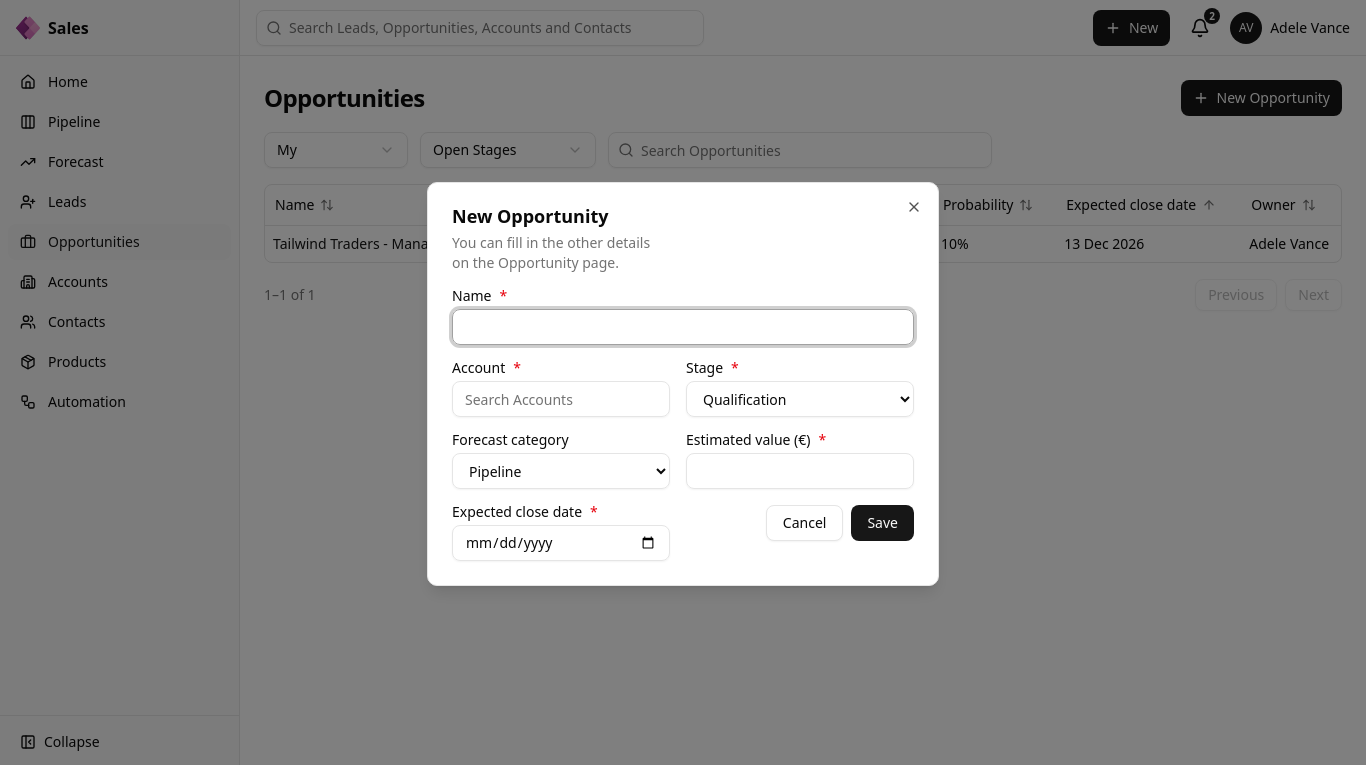
Test: Opportunities flow › lets the Owner pick a Forecast category when creating, defaulting from the Stage
The width and height of the screenshot is (1366, 765).
In the field labelled "Name *": (683, 327) [452,309,914,345], type "Northwind BV - Omitted"
In the dropdown labelled "Account *": (561, 399) [452,381,670,417], type "north"
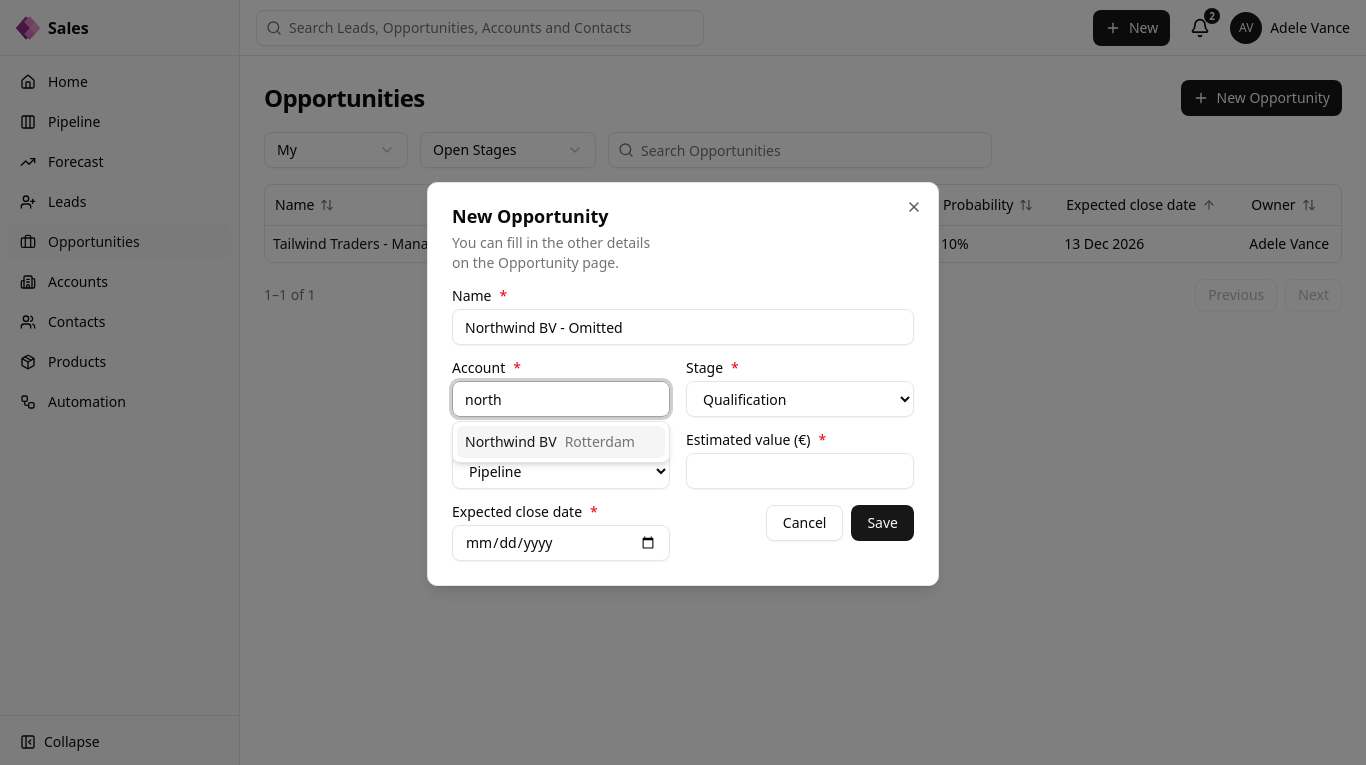
Click the option "Northwind BV": click(561, 442) [457,426,665,458]
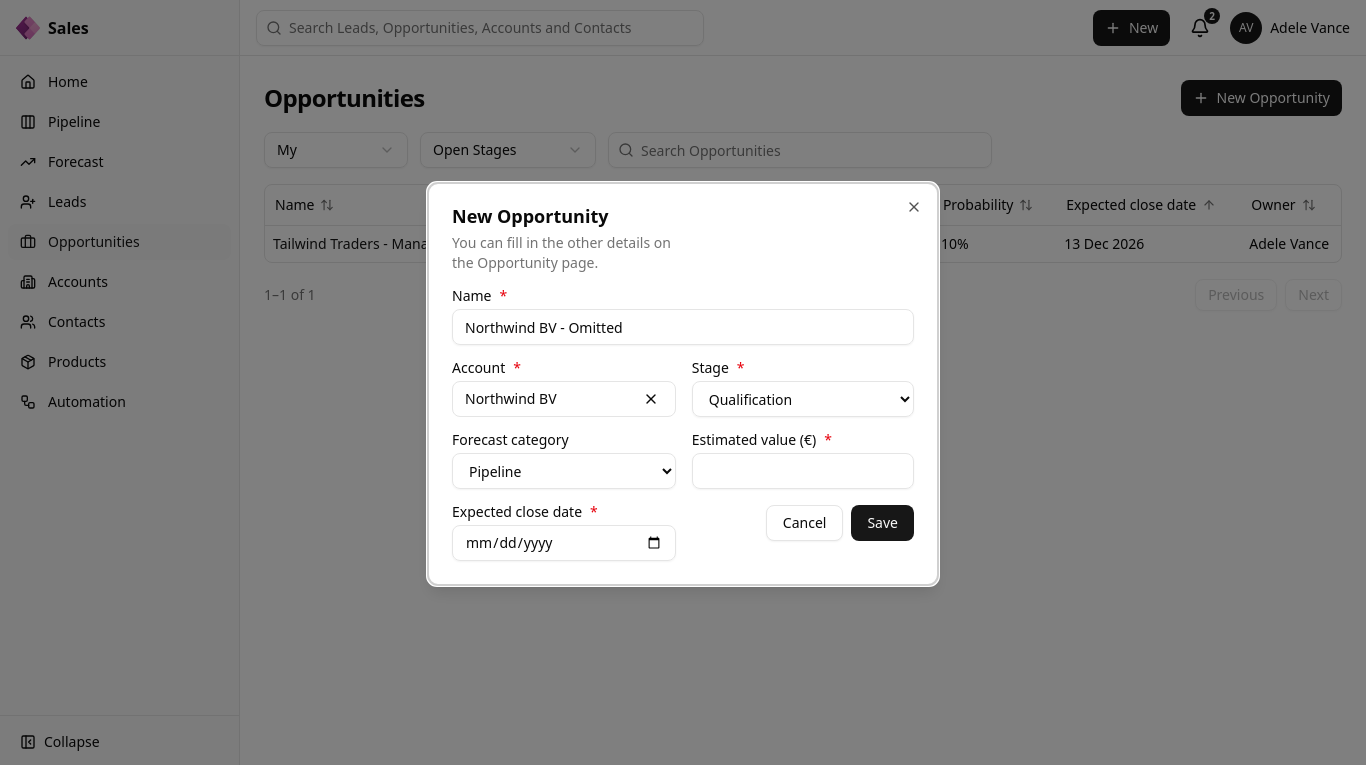
Select "Proposal" in the dropdown labelled "Stage *": (803, 399) [692,381,914,417]
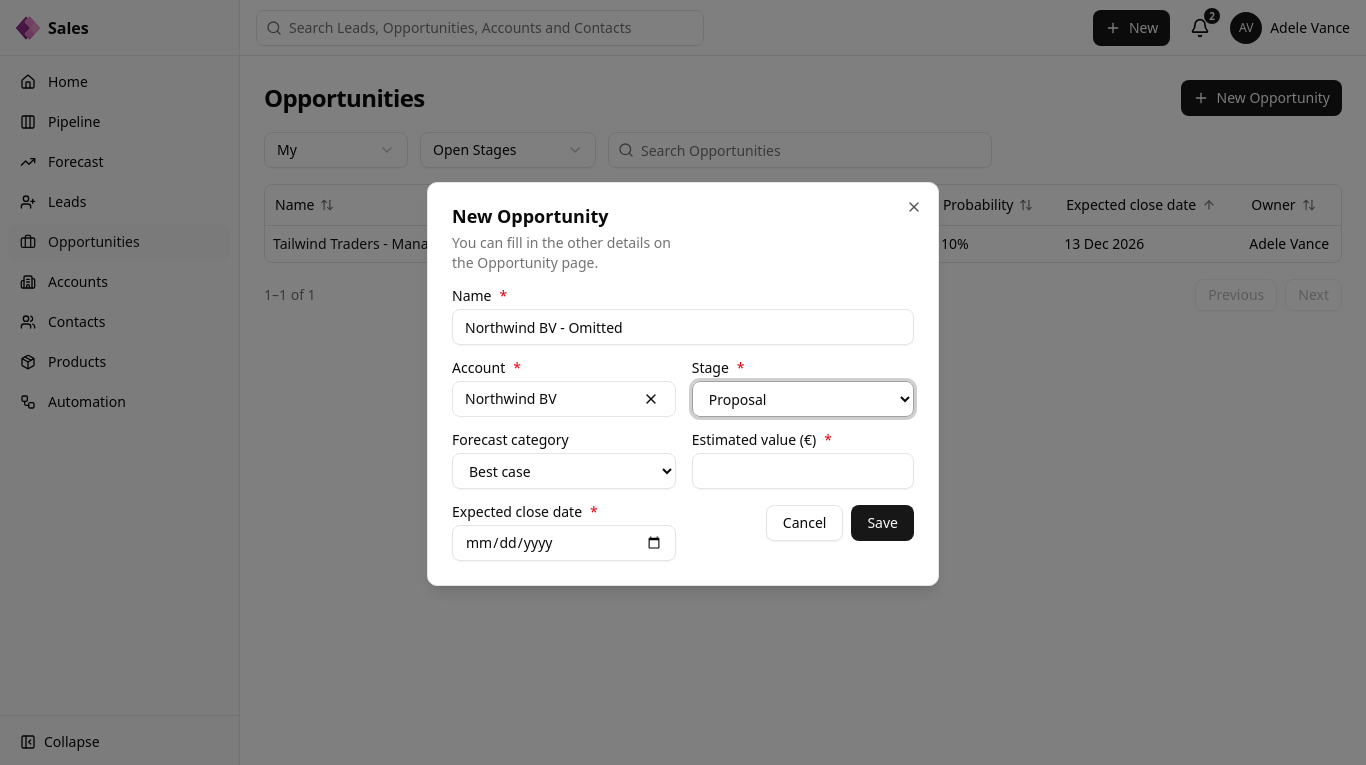
Expected: the dropdown labelled "Forecast category" shows "Best case"
Select "Omitted" in the dropdown labelled "Forecast category": (564, 471) [452,453,676,489]
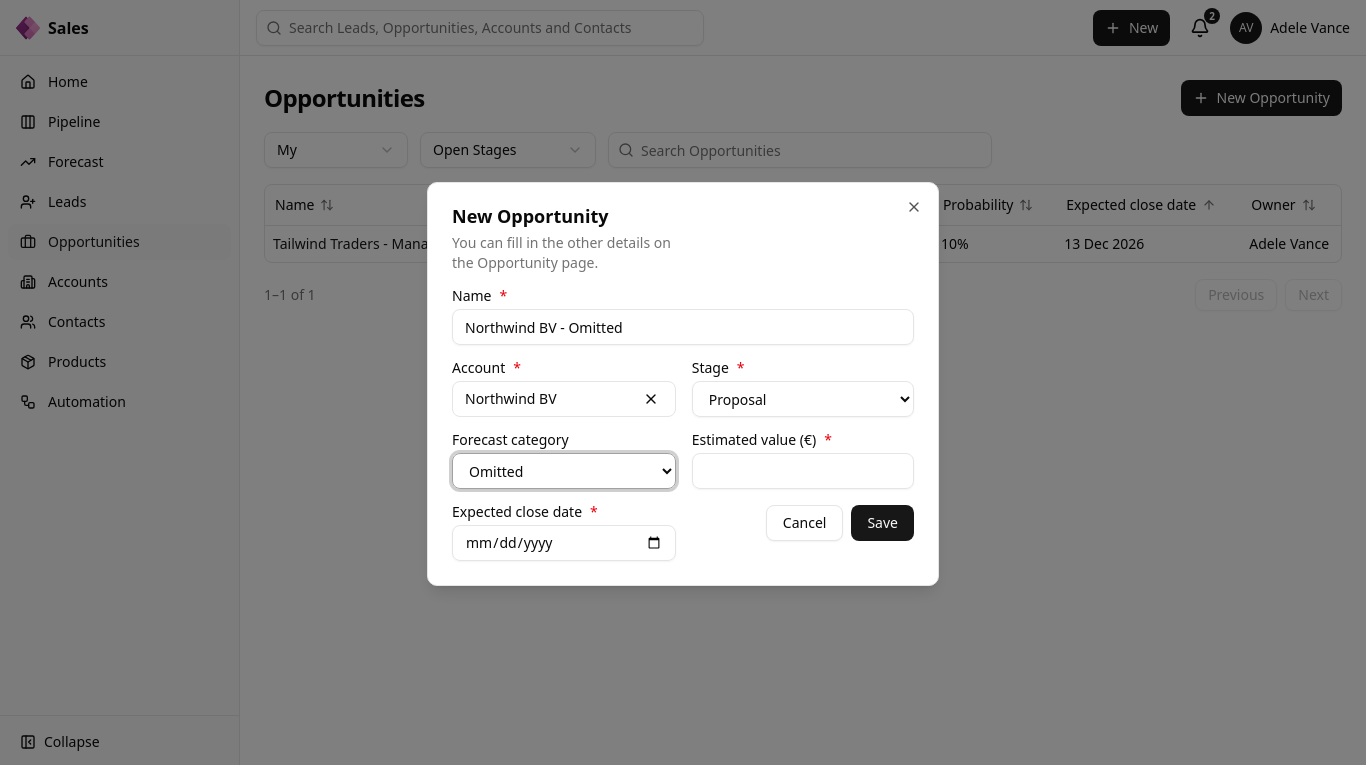
In the number field labelled "Estimated value (€) *": (803, 471) [692,453,914,489], type "1000"
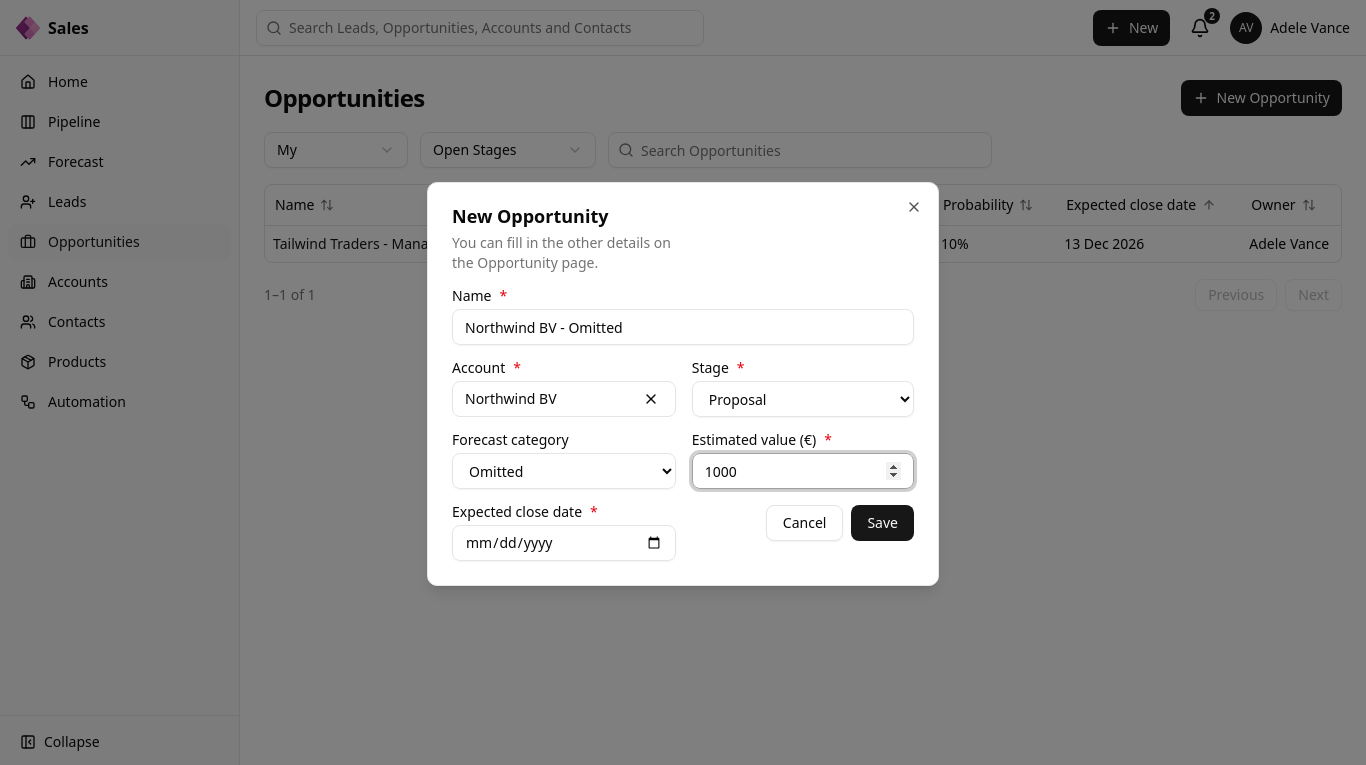
In the date field labelled "Expected close date *": (564, 543) [452,525,676,561], type "2026-12-15"
Click the button "Save": click(883, 523) [851,505,914,541]
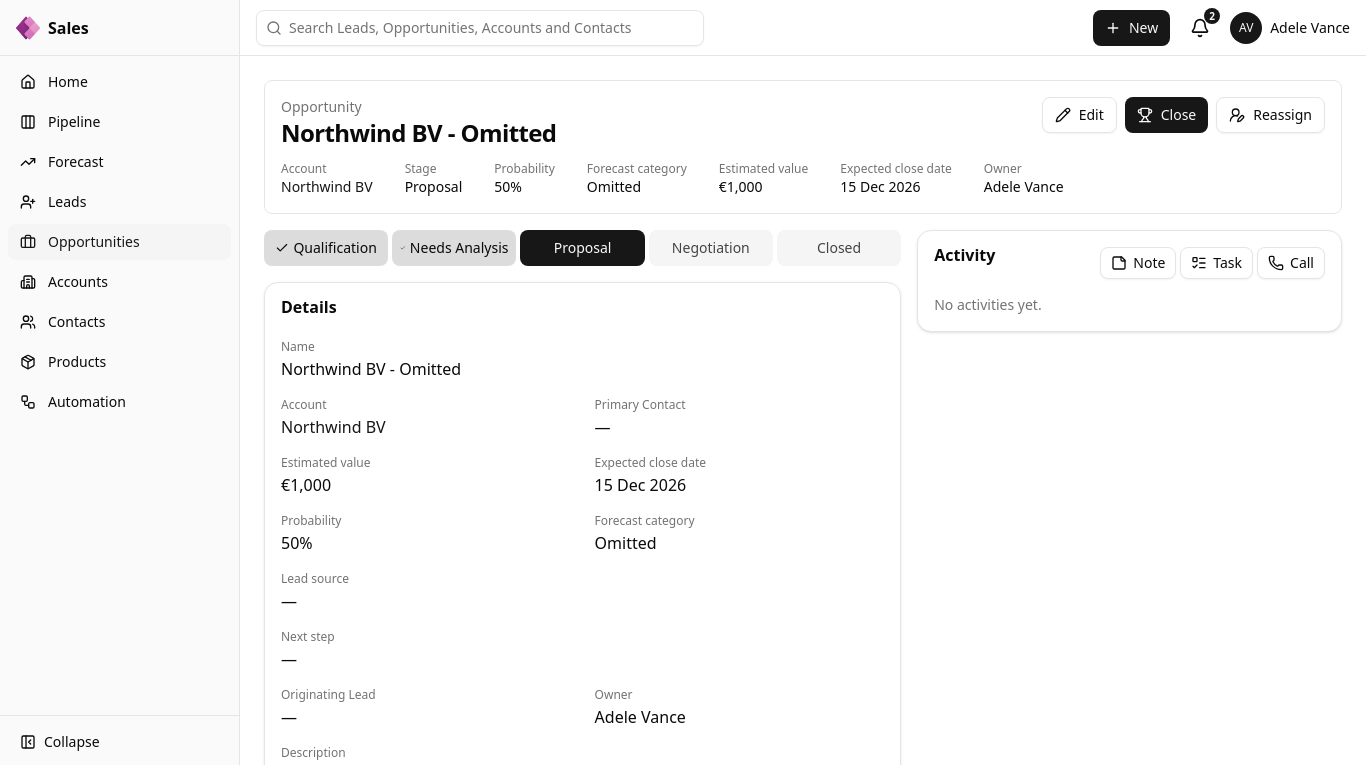
Expected: the heading "Northwind BV - Omitted" is shown, [281,116,556,149]
